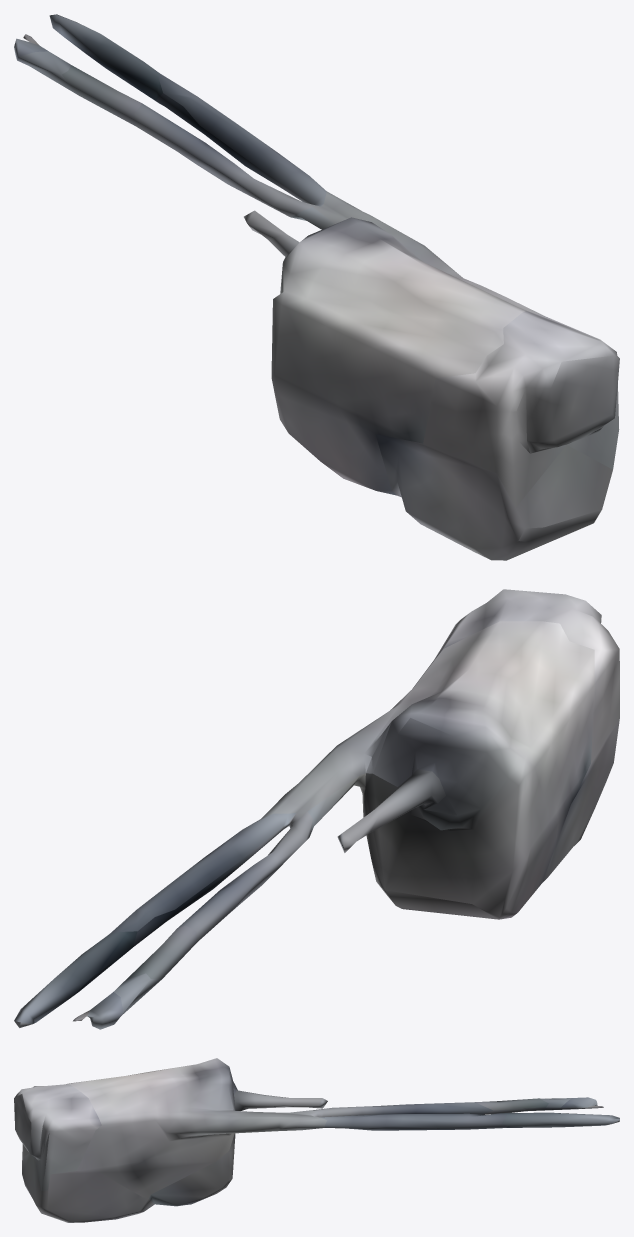
The model's file is freighter_part_1.glb.
3 renders of one model, top to bottom at view 1: azimuth 30°, elevation 25°; view 2: azimuth 150°, elevation 25°; view 3: azimuth 270°, elevation 25°, orthographic. The views are drawn at different scales.
Visible parts, largest first — view 1: part1; view 2: part1; view 3: part1.
Part boxes in pixels (x1,y1,x2,y2): part1: (14,14,619,560); part1: (14,589,619,1029); part1: (14,1058,619,1222).
Bounding box in the file's own units: 0.0335 × 0.0361 × 0.1488.
1 material, 1 textured.
